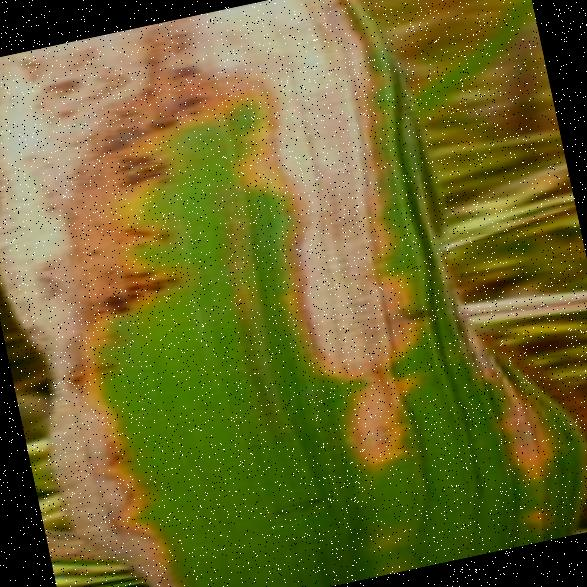Bacteria_Leaf_Blight: (0, 0, 484, 587)
